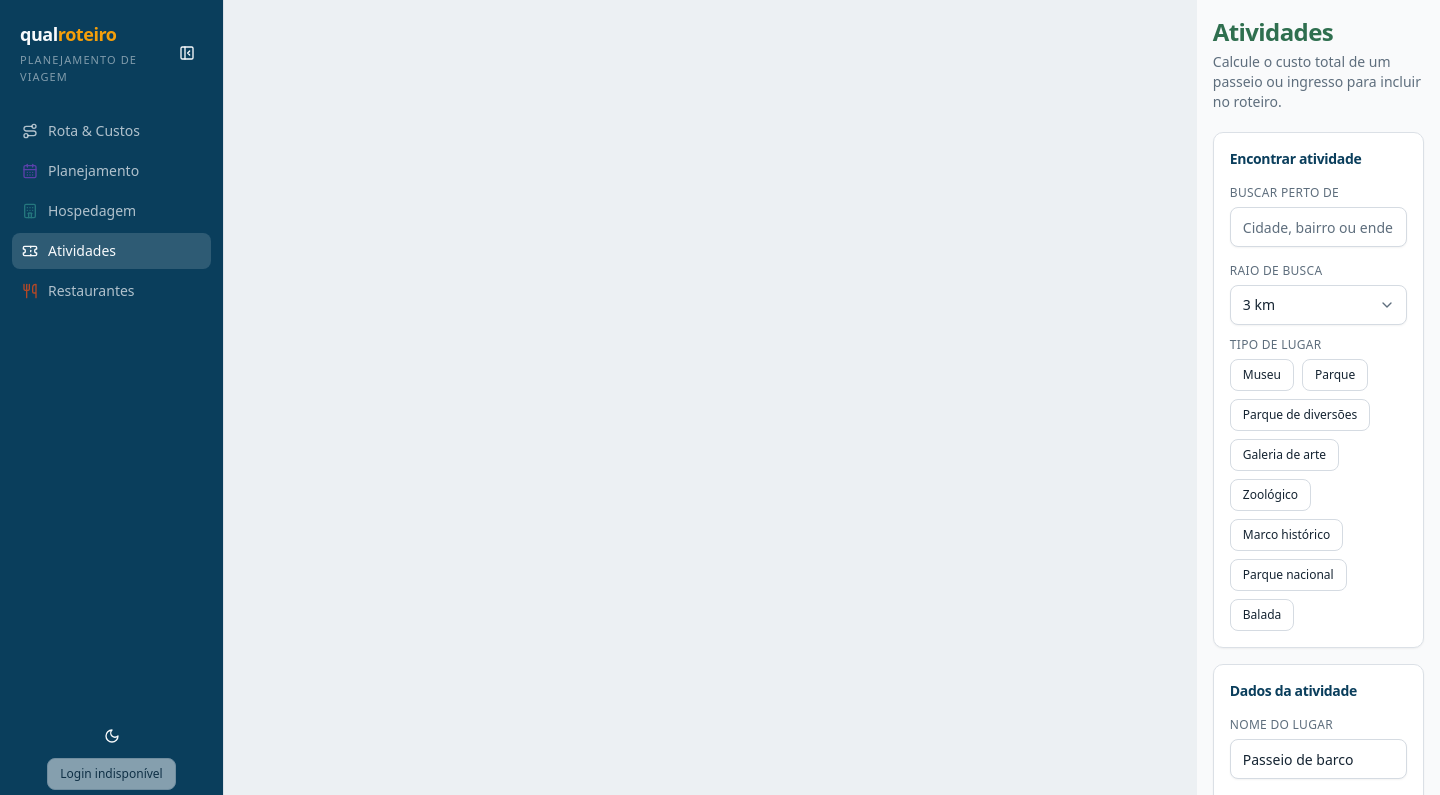
Test case: Atividades module › searches nearby activities from a resolved reference and uses a list selection in the form
Type "Rio" into the dropdown labelled "Buscar perto de" at (1318, 227), box left=1230, top=207, right=1407, bottom=247
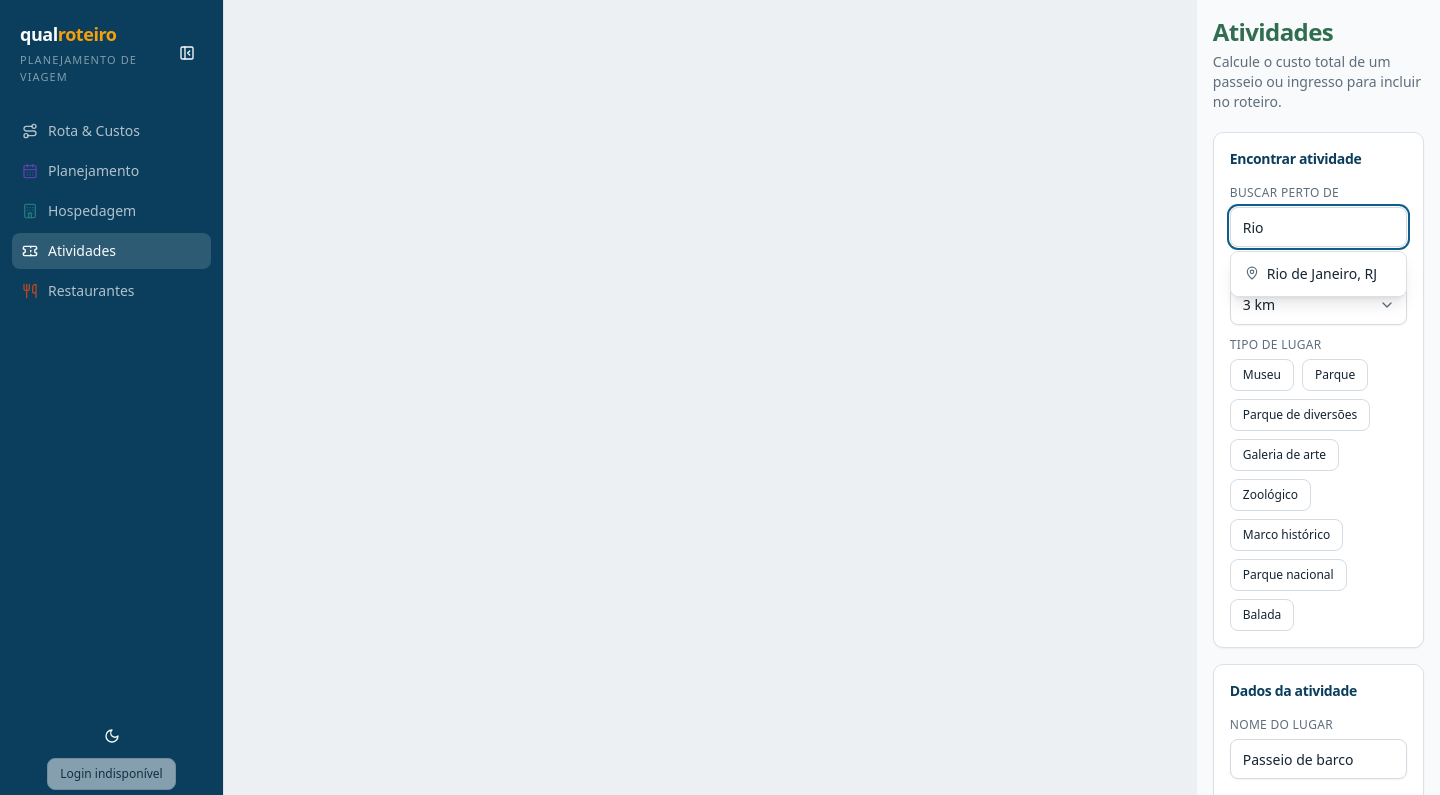
Click the option "Rio de Janeiro, RJ" at (1318, 274), box left=1235, top=256, right=1402, bottom=292
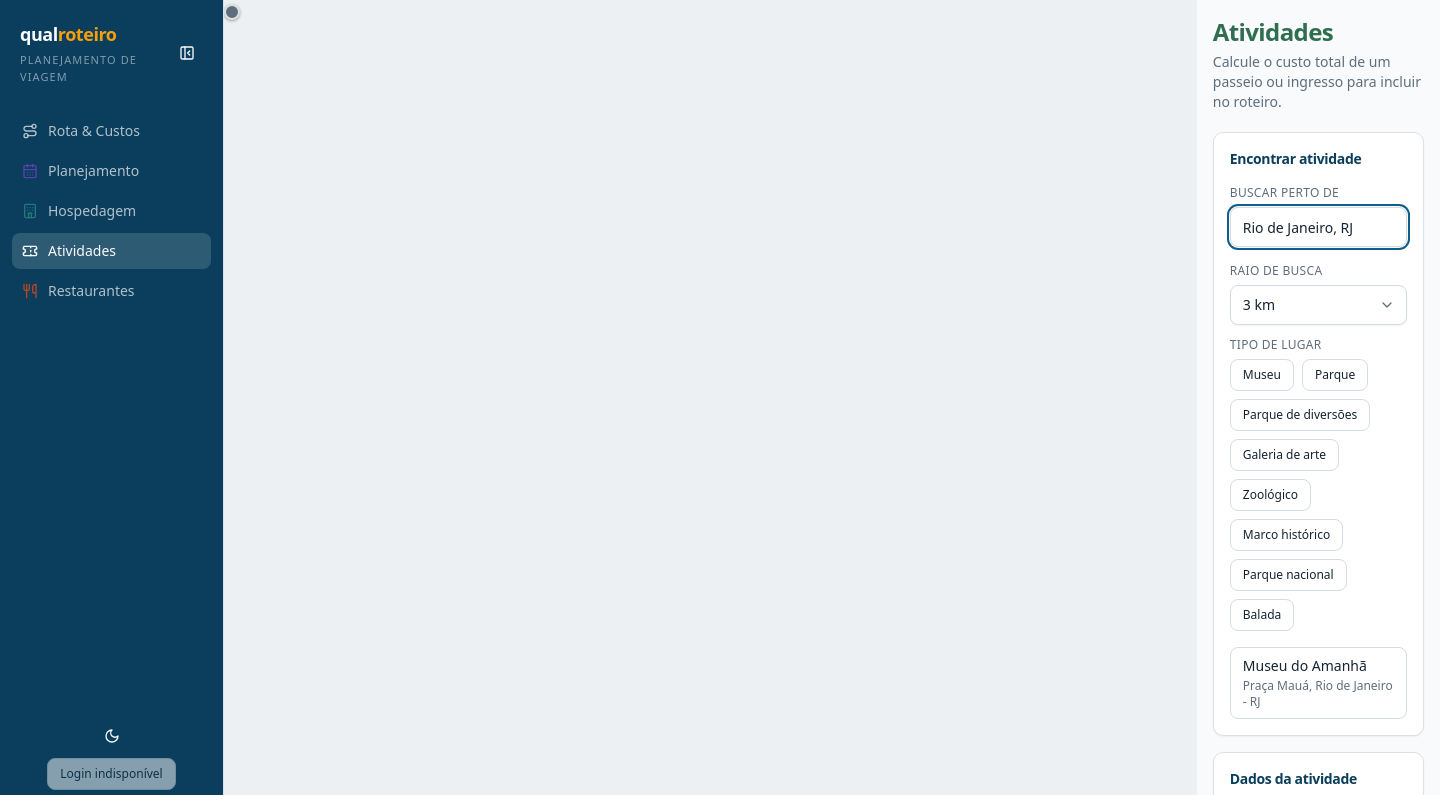
Click the button "Museu do Amanhã Praça Mauá, Rio de Janeiro - RJ" at (1318, 683), box left=1230, top=647, right=1407, bottom=719
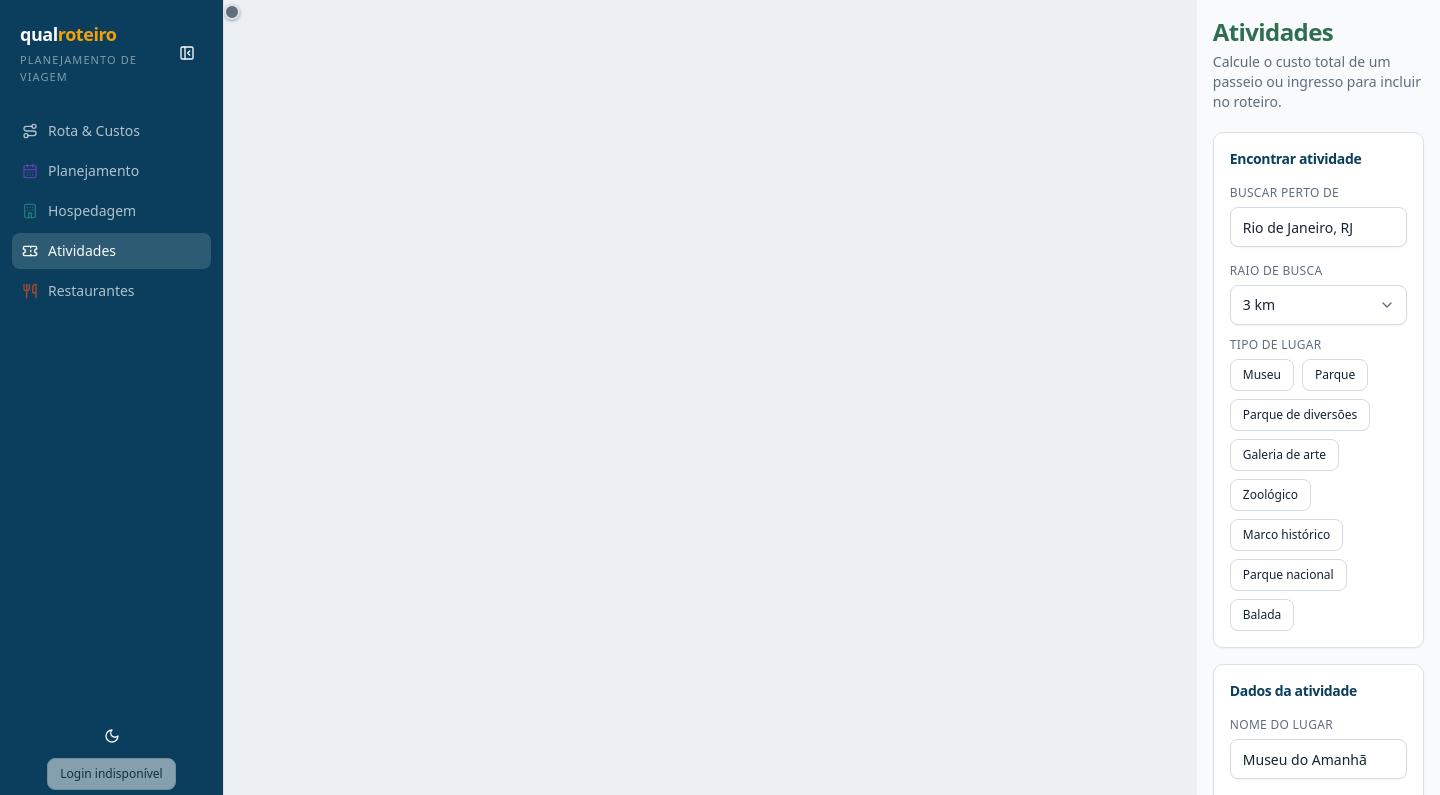
Expected: the field labelled "Nome do lugar" holds "Museu do Amanhã", left=1230, top=739, right=1407, bottom=779
Replace the text in the dropdown labelled "Buscar perto de" with "Rio" at (1318, 227), box left=1230, top=207, right=1407, bottom=247
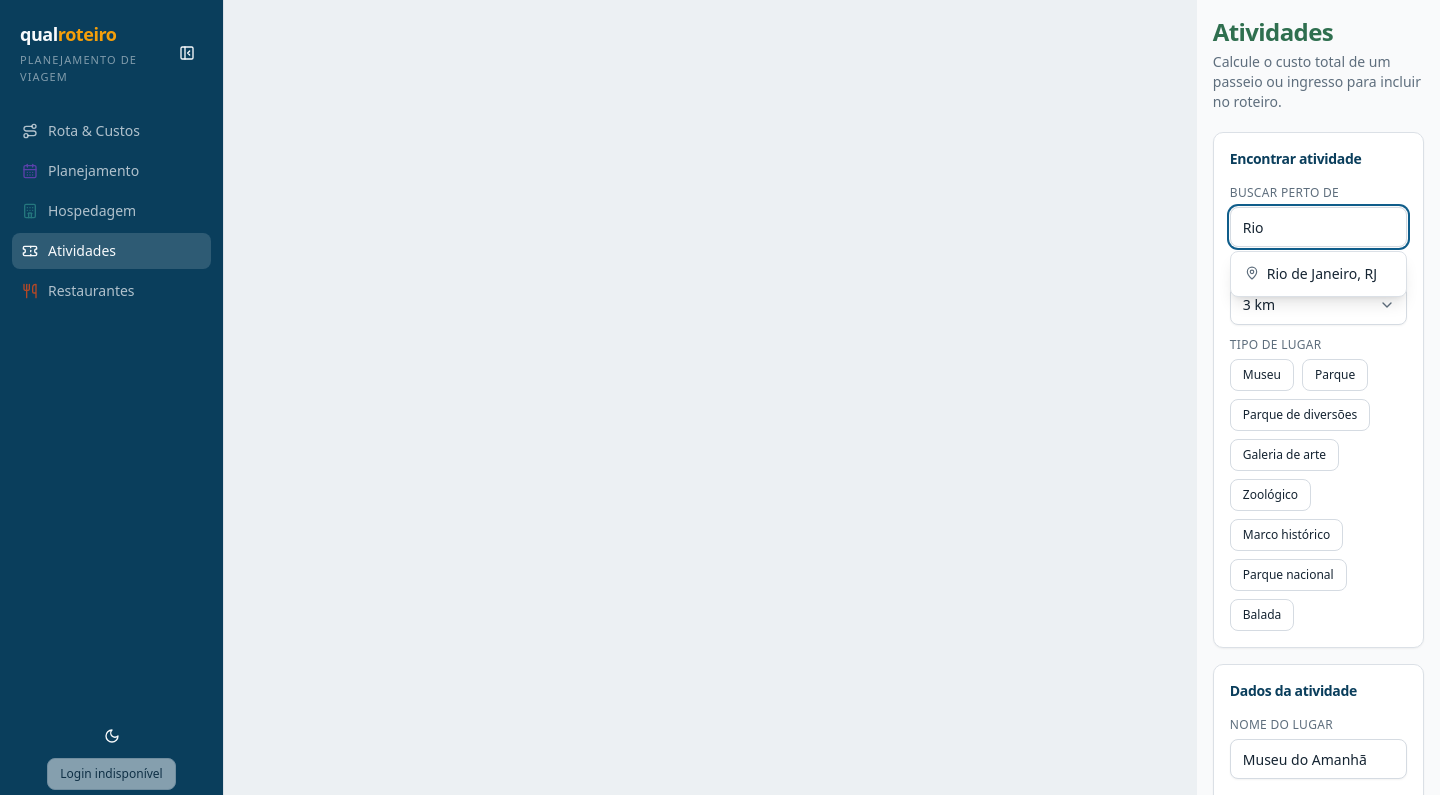
Click the option "Rio de Janeiro, RJ" at (1318, 274), box left=1235, top=256, right=1402, bottom=292
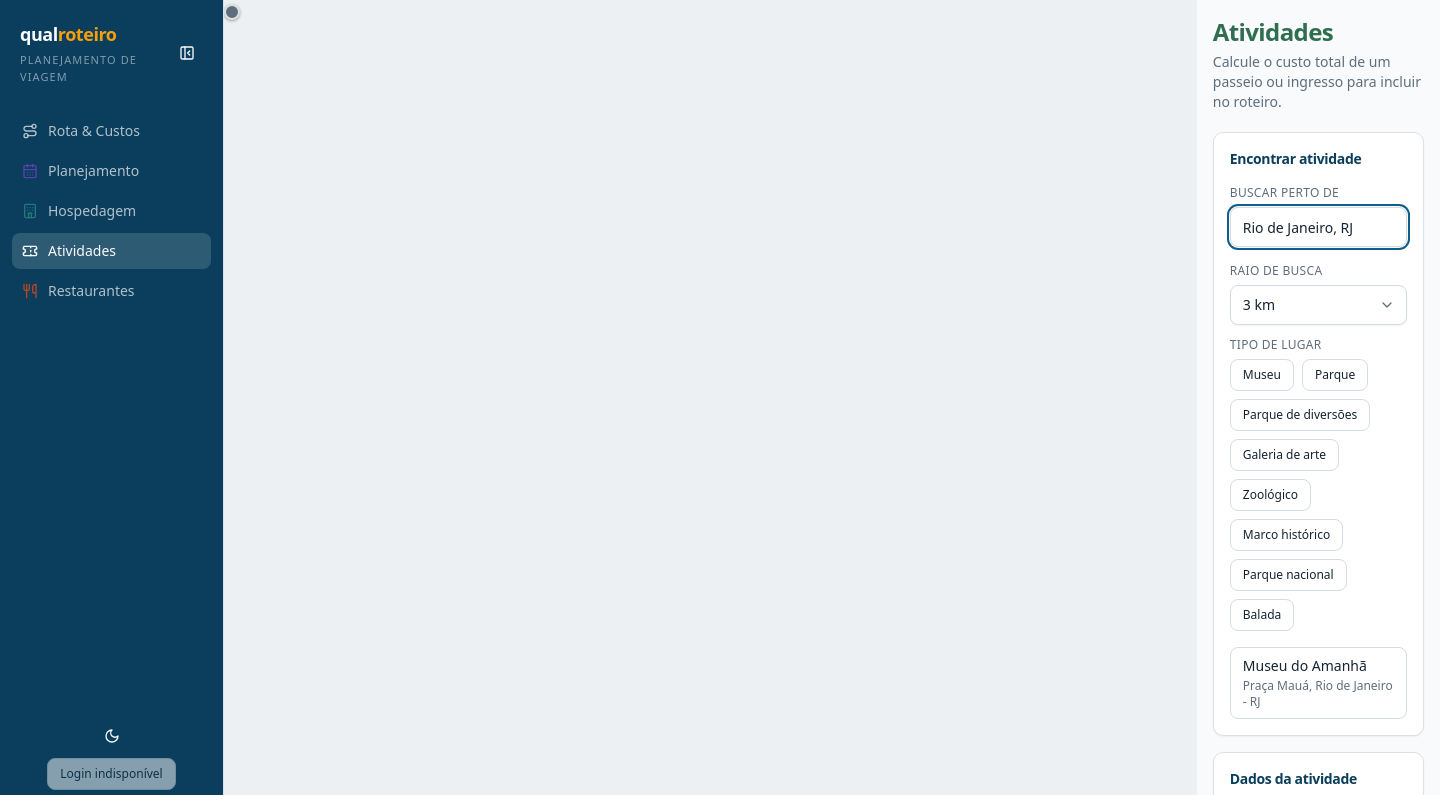
Expected: the list named "Atividades encontradas" is shown, left=1230, top=647, right=1407, bottom=719
